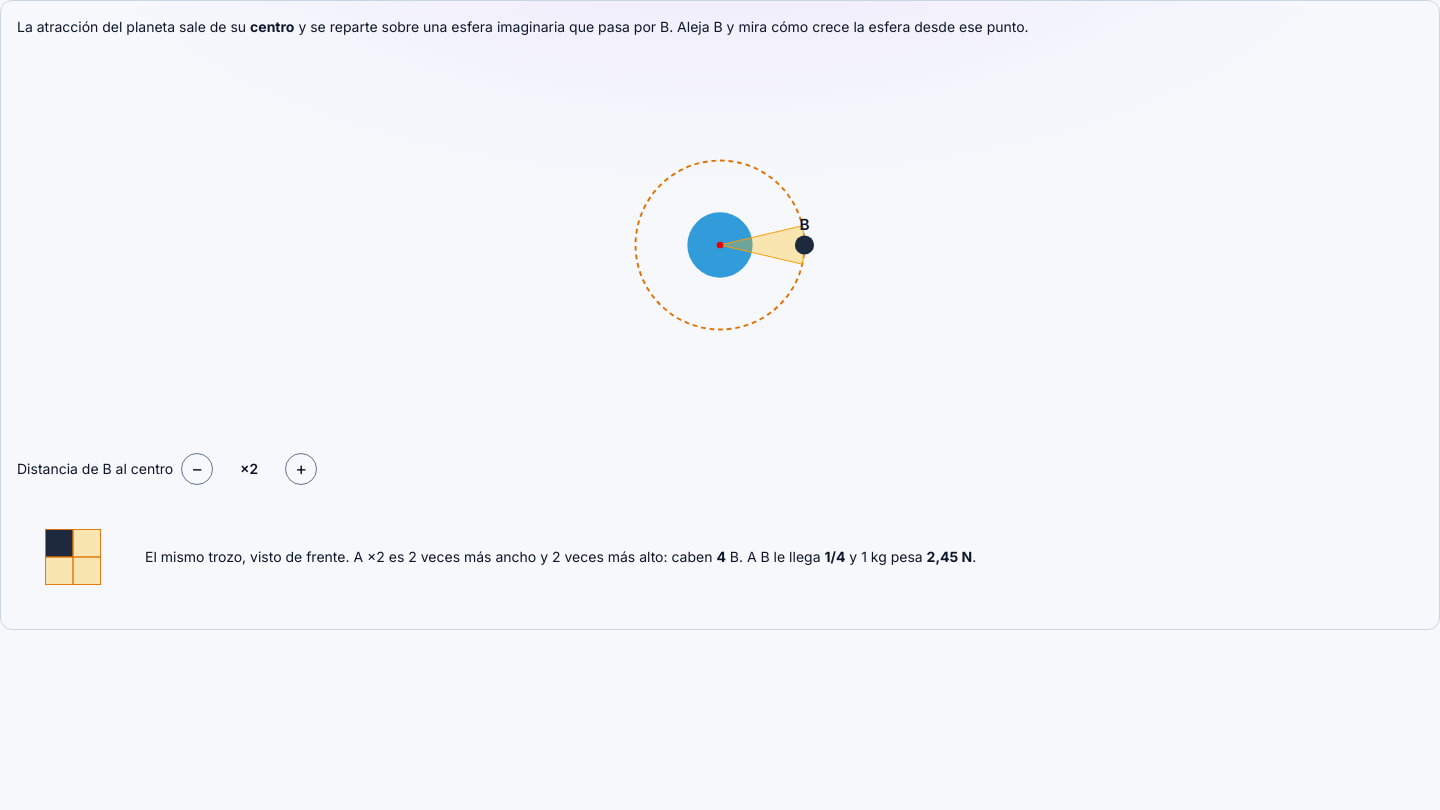
the widget esfera › stays in the reader's hands after a change from outside
Click the button named "Más: Distancia de B al centro": click(301, 469) x1=285 y1=453 x2=317 y2=485
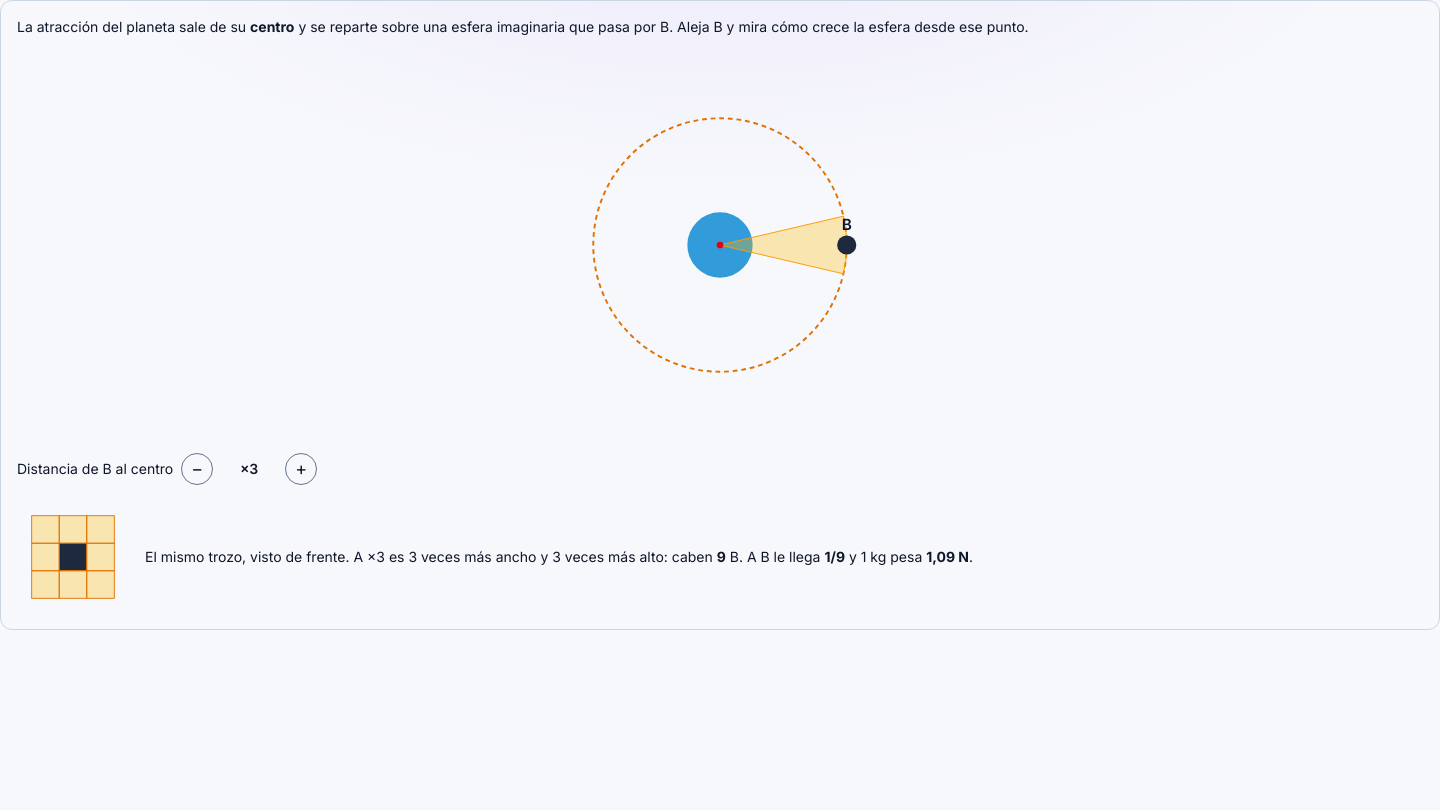
Now the text "caben 9 B. A B le llega 1/9" is shown, box x1=145 y1=547 x2=973 y2=567
